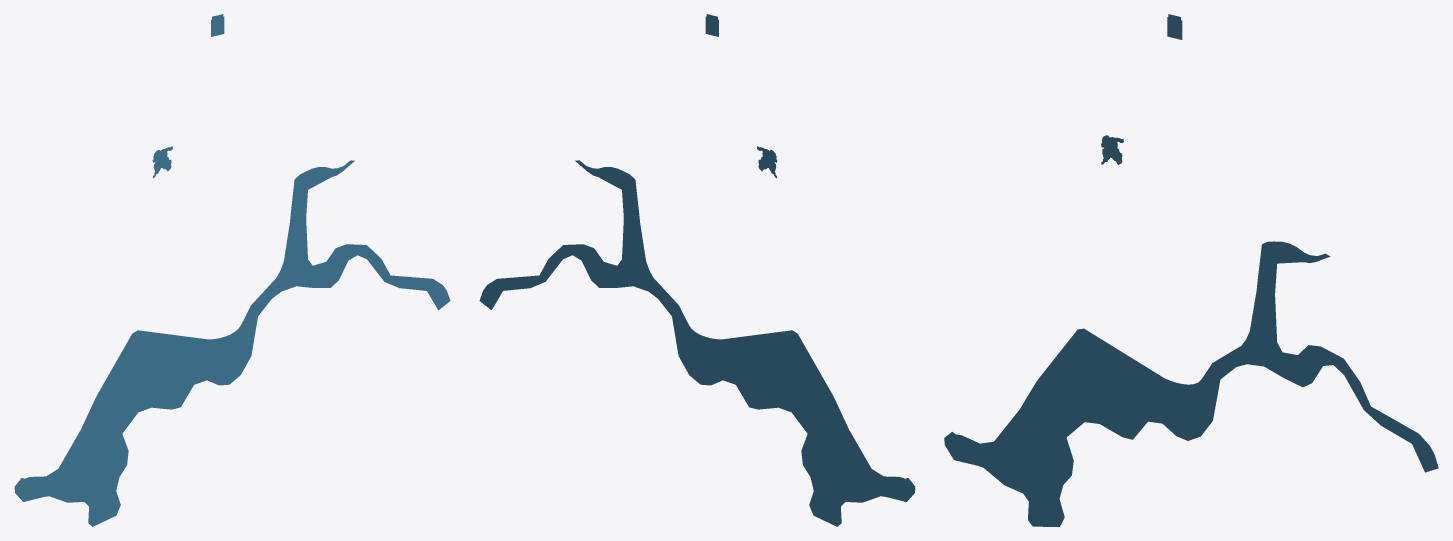
File: water.obj
3 renders of one model, left to right at view 1: azimuth 30°, elevation 25°; view 2: azimuth 150°, elevation 25°; view 3: azimuth 330°, elevation 25°, orthographic. The views are drawn at different scales.
Parts seen in each view (by area): view 1: chongqing_central_park_water; view 2: chongqing_central_park_water; view 3: chongqing_central_park_water.
Boxes of the visible parts, <box> form: chongqing_central_park_water: <box>14,14,450,526</box>; chongqing_central_park_water: <box>479,14,915,526</box>; chongqing_central_park_water: <box>944,14,1438,526</box>.
Bounding box in the file's own units: 908 × 958 × 0.
